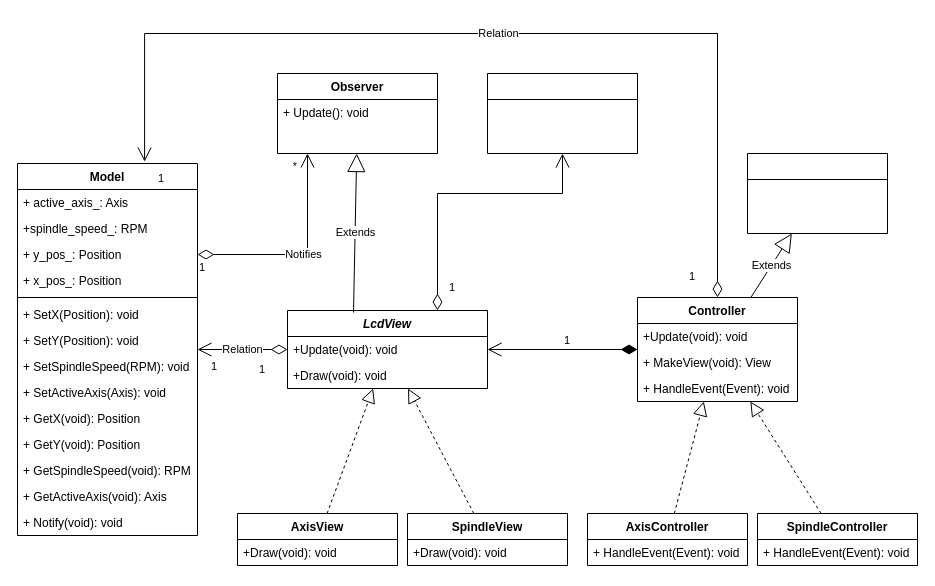
This 935x586 diagram has some shape labels left out. The shapes that lost their labels are listed below. From the top down, each one's centre as x and y in pixels, then its label:
pixel 562 113: LiquidCrystal_PCF8574
pixel 817 193: EventListner
